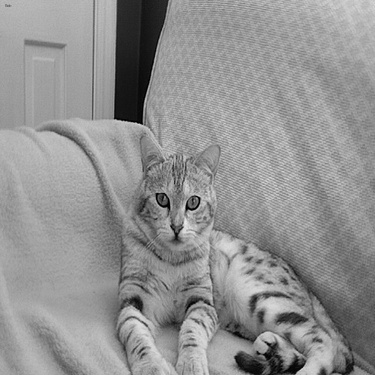cat: (36, 127, 353, 361)
